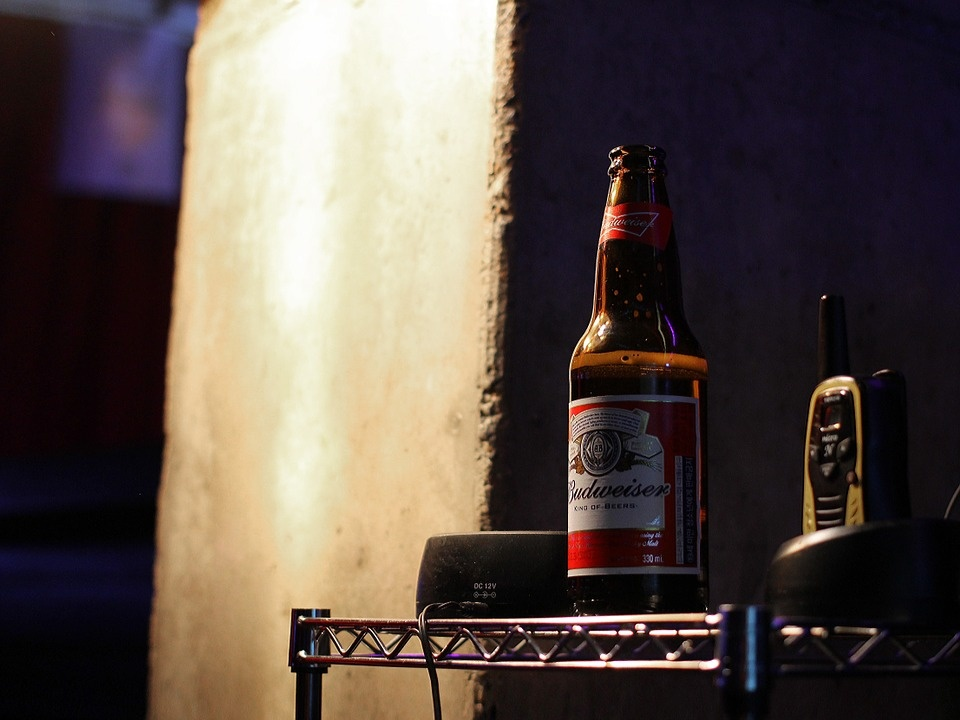beerBottle: (565, 147, 708, 603)
